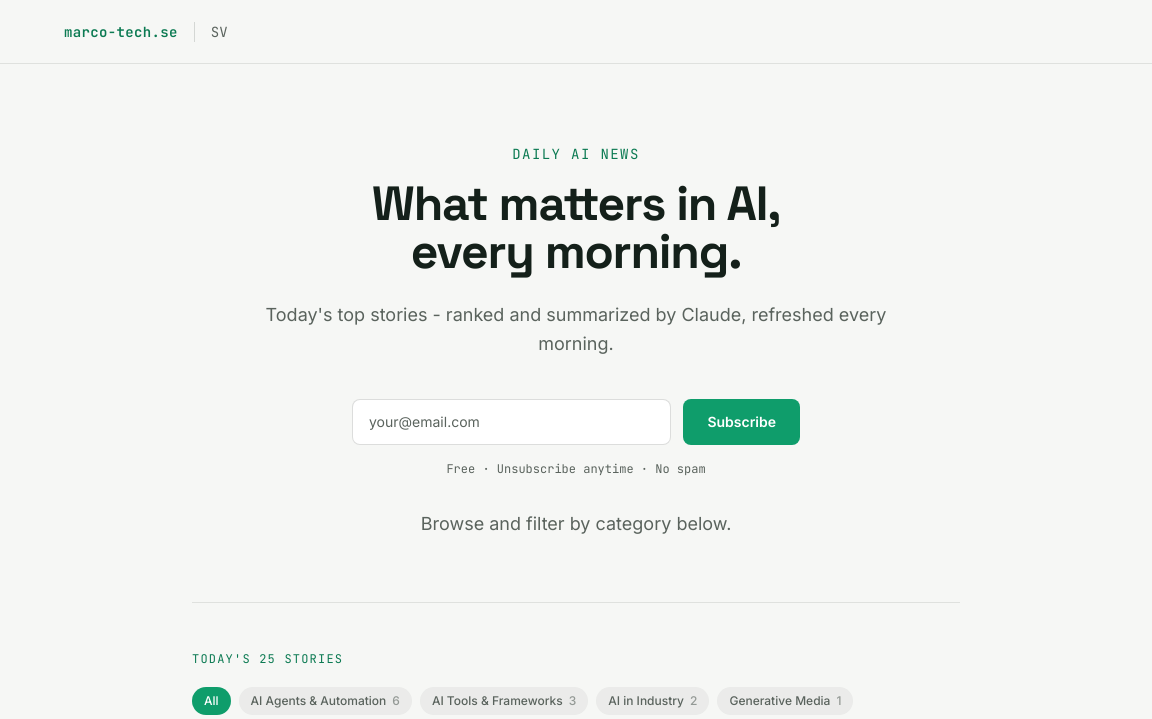
it: AI News page › shows error state when request fails
Step 1. Type "test@example.com" into the field named "Email address" → [512, 422], box x1=352 y1=398 x2=671 y2=444
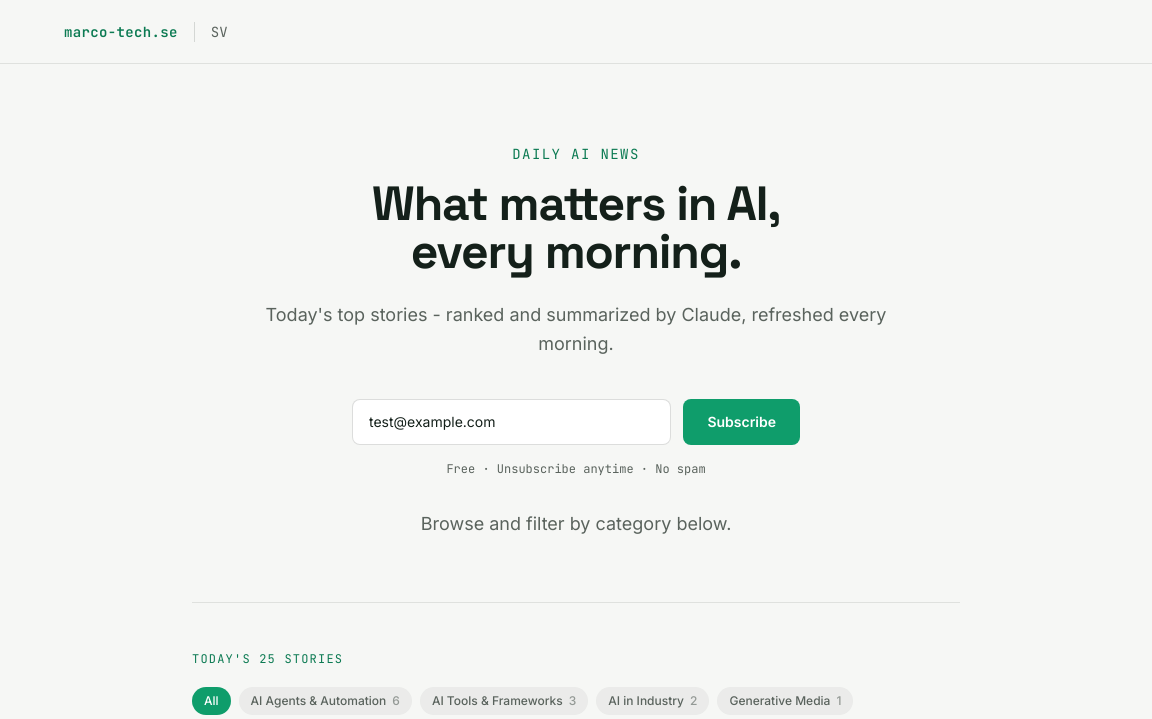
Step 2. Click the button "Subscribe" → [742, 422], box x1=683 y1=398 x2=800 y2=444
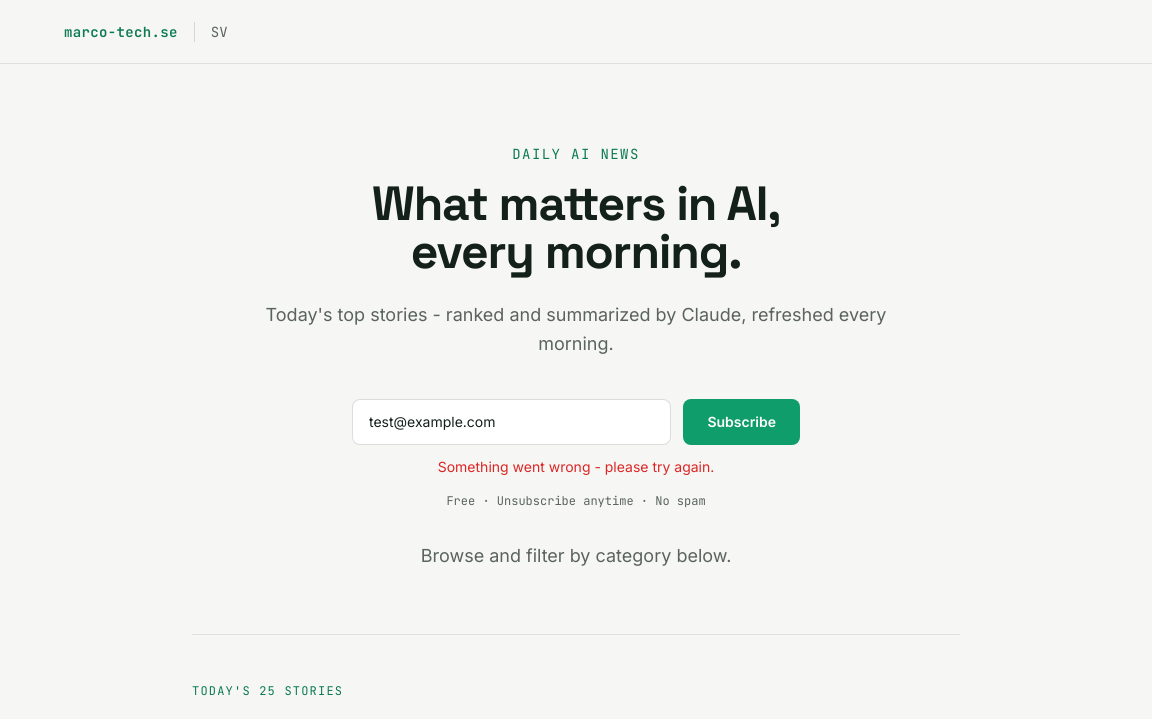
Expected: the text "Something went wrong - please try again." is shown, x1=438 y1=458 x2=714 y2=474
